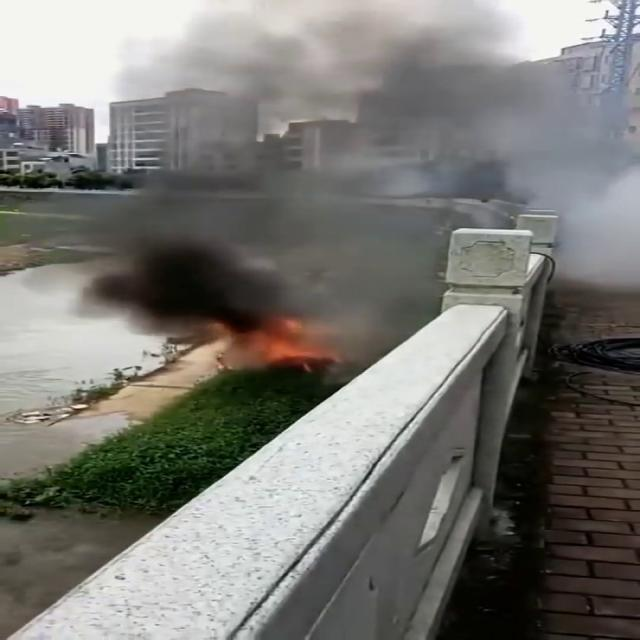Fire: (193, 318, 295, 372)
Smoke: (22, 8, 640, 308)
